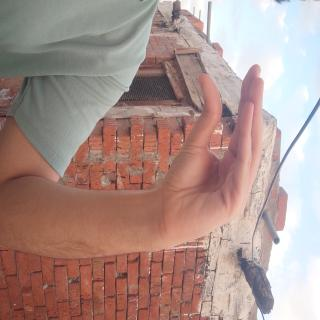JEEM: (44, 59, 196, 265)
